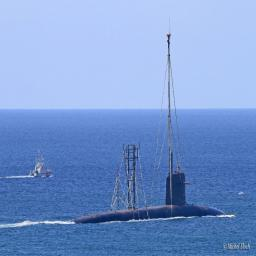submarine: (71, 172, 237, 225)
